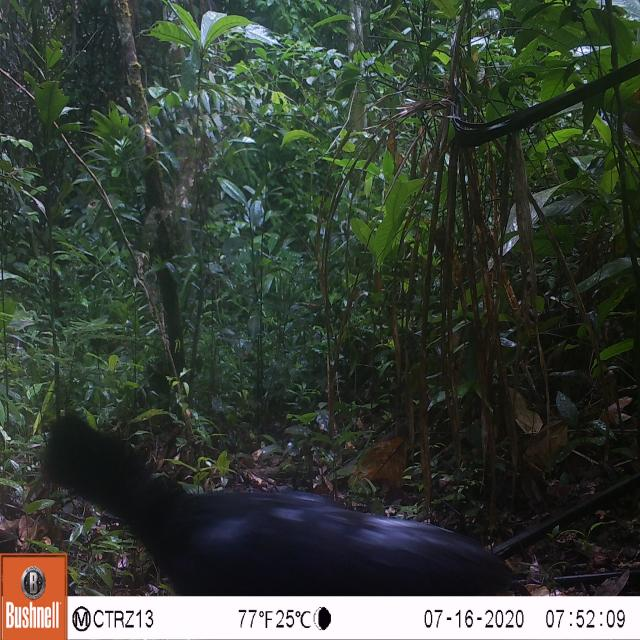Salvins Curassow: (21, 399, 544, 597)
